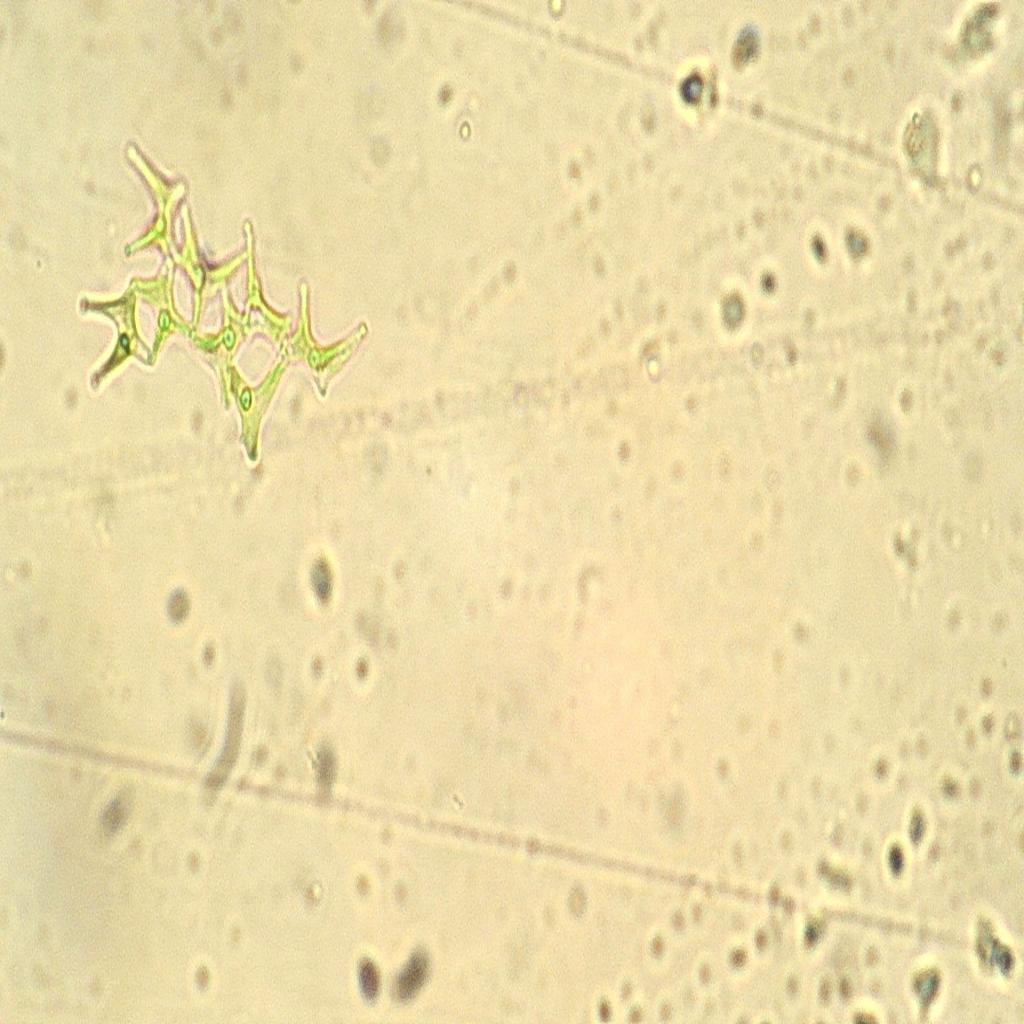Pediastrum_1TH: (41, 120, 385, 507)
